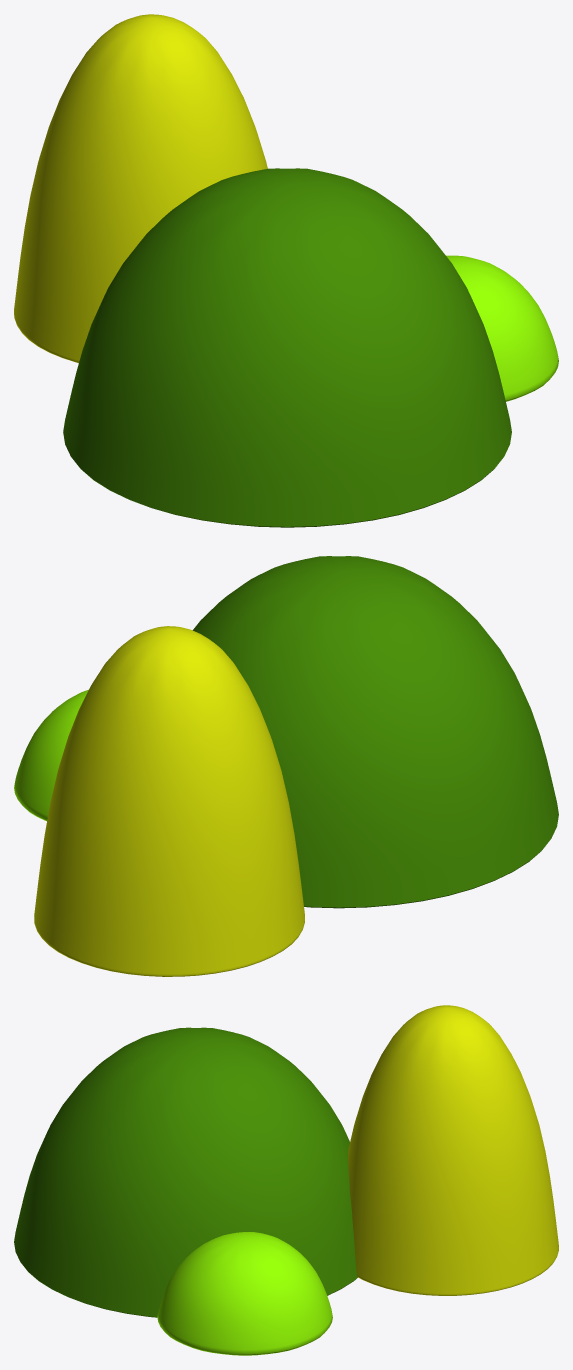
File: l_pagorek_2.fbx
3 views of the same model, one above another, from view 1: azimuth 30°, elevation 25°; view 2: azimuth 150°, elevation 25°; view 3: azimuth 270°, elevation 25° (orthographic). The views are drawn at different scales.
Visible parts, largest first — view 1: krzak3; view 2: krzak3; view 3: krzak3.
Part boxes in pixels (<box>): krzak3: <box>14,14,558,527</box>; krzak3: <box>14,556,558,976</box>; krzak3: <box>14,1005,558,1355</box>.
Bounding box in the file's own units: 905 × 537 × 1092.
